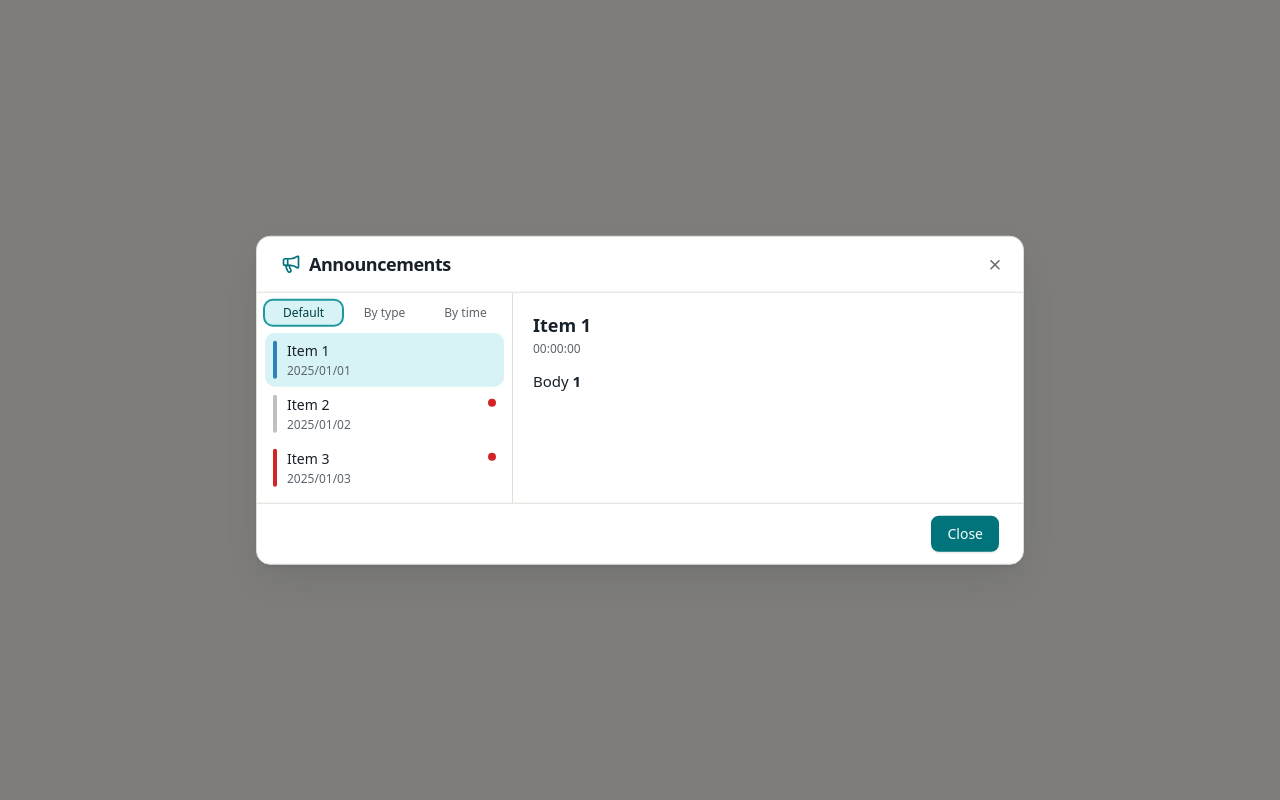
Test: AnnouncementsDialog › shows the selected body as markdown and lets the reader pick another entry
The image size is (1280, 800).
Click the button "Item 2 2025/01/02" at (384, 413), box [265,386,504,440]
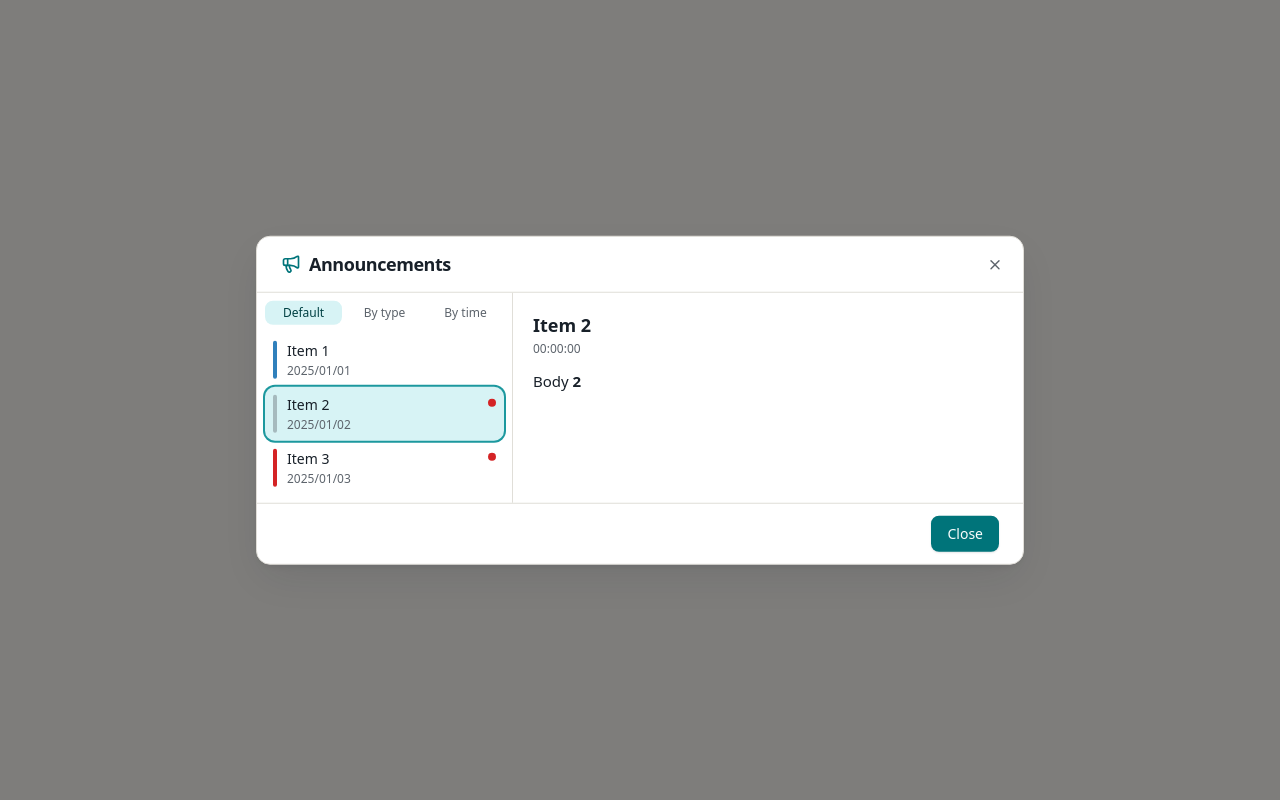
Expected: the heading "Item 2" is shown, [533,312,591,336]
Expected: the text "2" is shown, [573,371,581,391]
